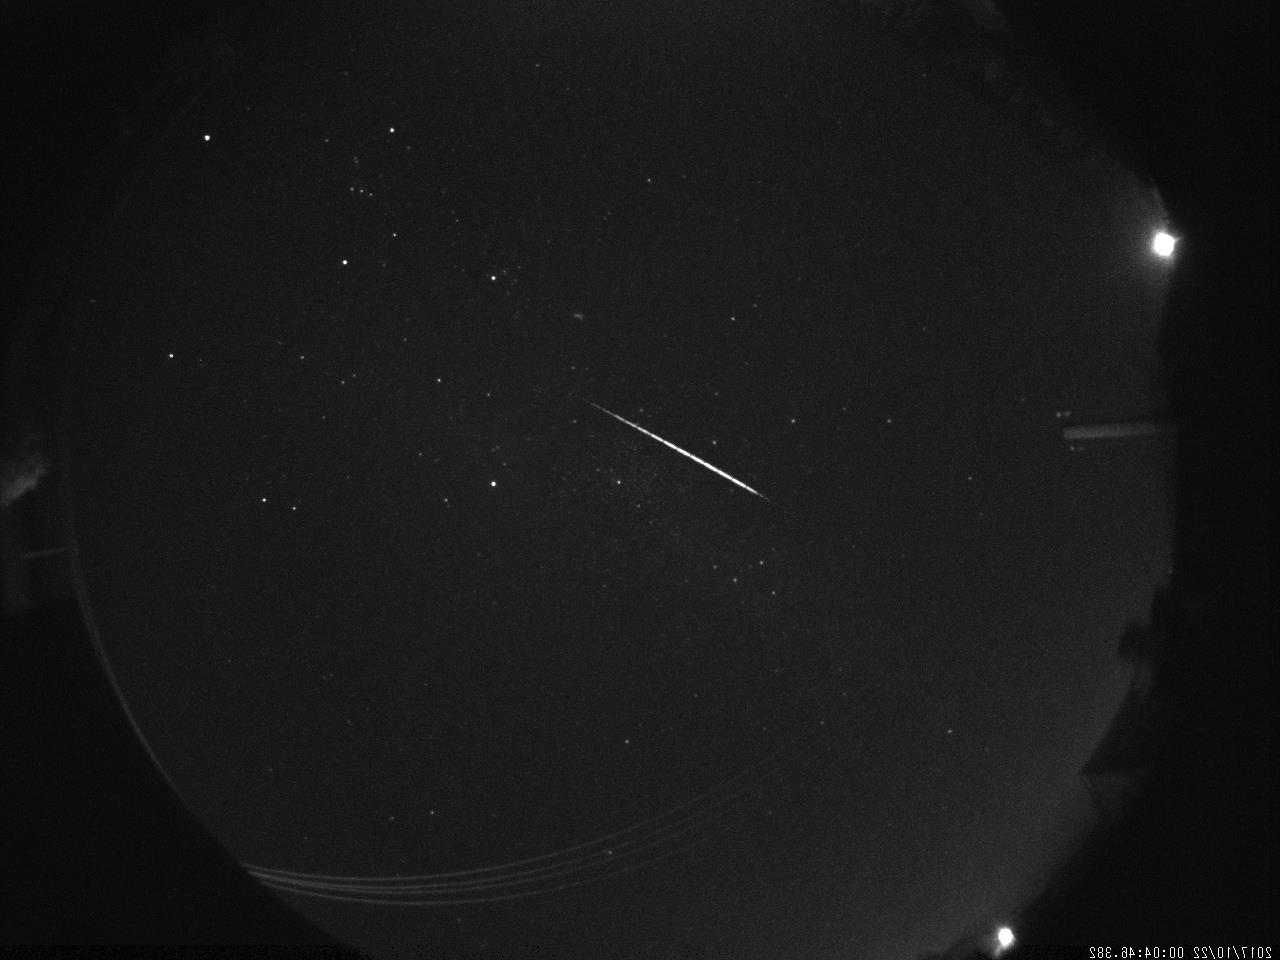meteor: (546, 352, 813, 525), (333, 173, 388, 210)
